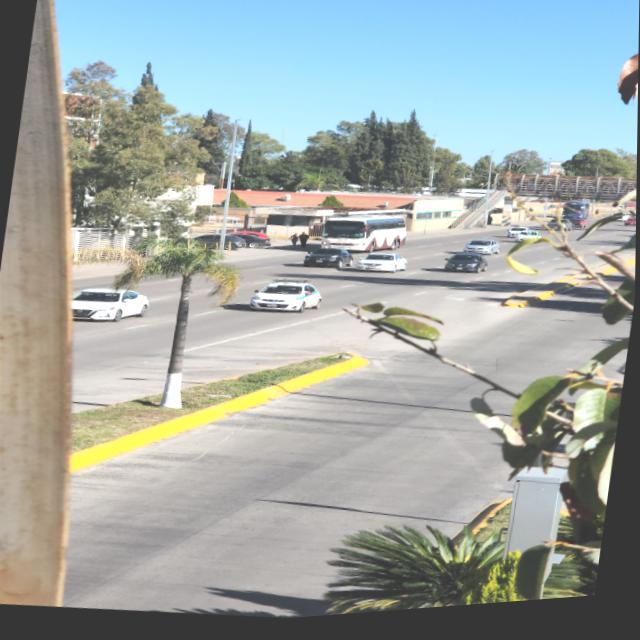Auto: (71, 284, 152, 331), (249, 278, 324, 322), (354, 254, 409, 284), (443, 257, 487, 285), (231, 232, 274, 255), (464, 243, 503, 266)
